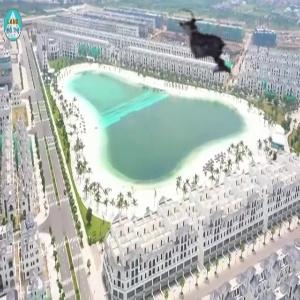drone: (163, 3, 252, 92)
